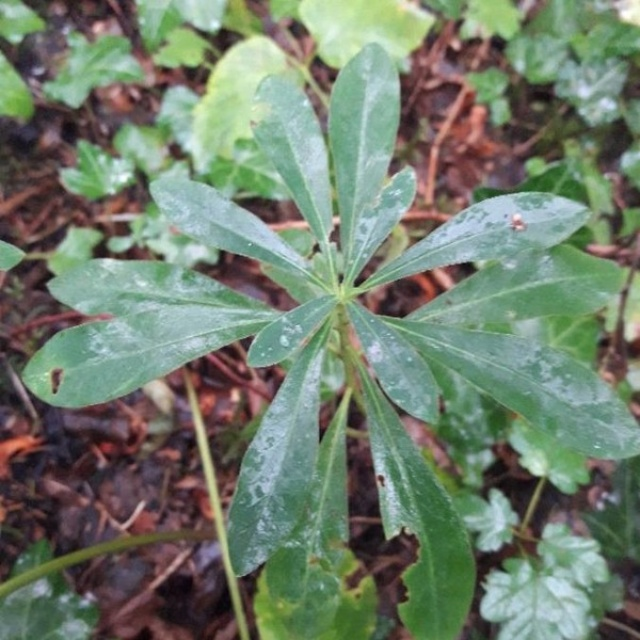obstacle: (87, 54, 573, 588)
